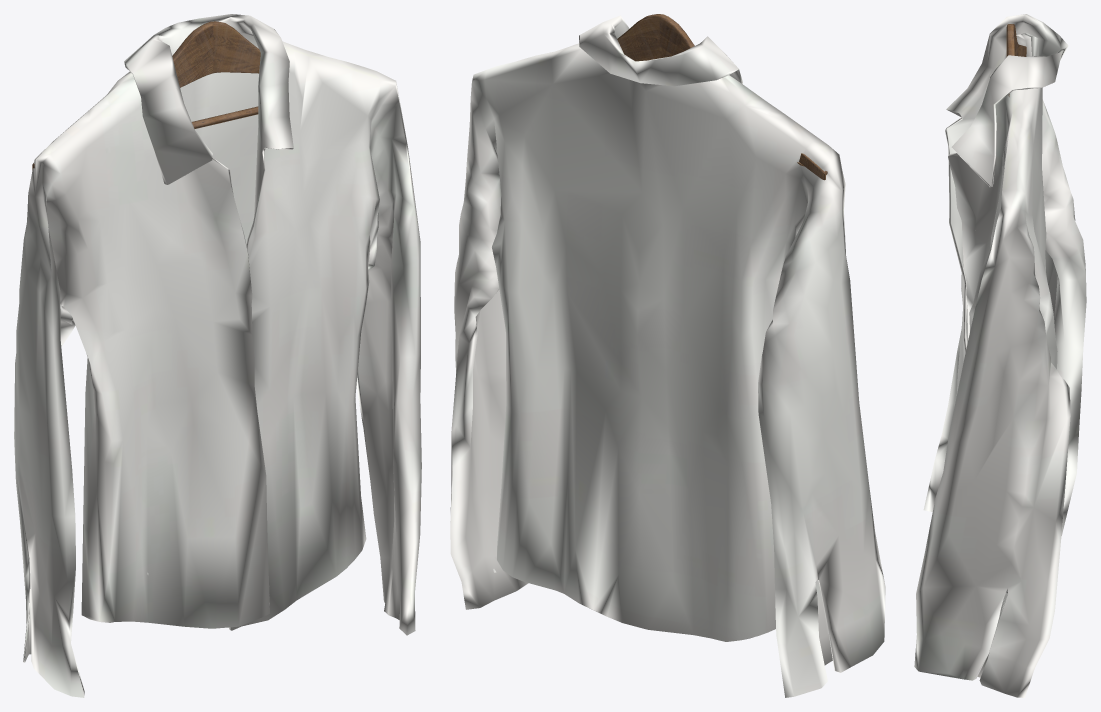
The model's file is hvtop_shirt_022.glb.
The picture shows the model from 3 angles, left to right: view 1: azimuth 30°, elevation 25°; view 2: azimuth 150°, elevation 25°; view 3: azimuth 270°, elevation 25°; orthographic projection. The views are drawn at different scales.
Parts seen in each view (by area): view 1: shirt_022_StaticMeshComponent0; view 2: shirt_022_StaticMeshComponent0; view 3: shirt_022_StaticMeshComponent0.
Part boxes in pixels (bbox=[...]): shirt_022_StaticMeshComponent0: bbox=[14, 14, 421, 697]; shirt_022_StaticMeshComponent0: bbox=[450, 14, 885, 697]; shirt_022_StaticMeshComponent0: bbox=[914, 14, 1086, 697].
Bounding box in the file's own units: 0.4861 × 0.7663 × 0.2037.
Materials: 2 (2 with a texture image).
